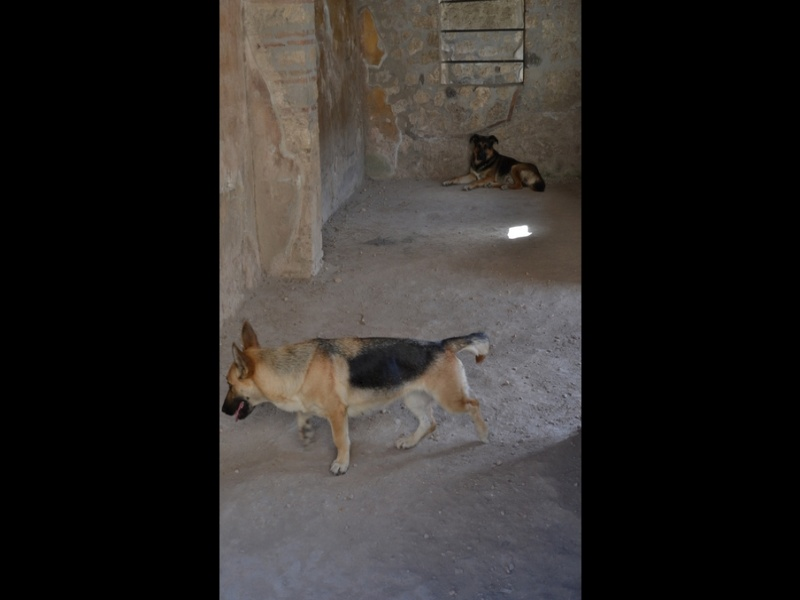dog: (222, 323, 497, 478), (441, 131, 554, 196)
